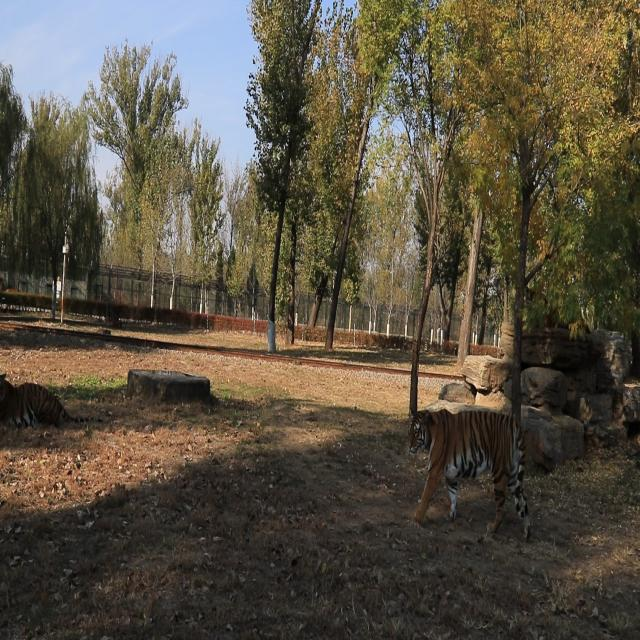Tiger: (399, 397, 544, 549), (0, 357, 109, 432)
